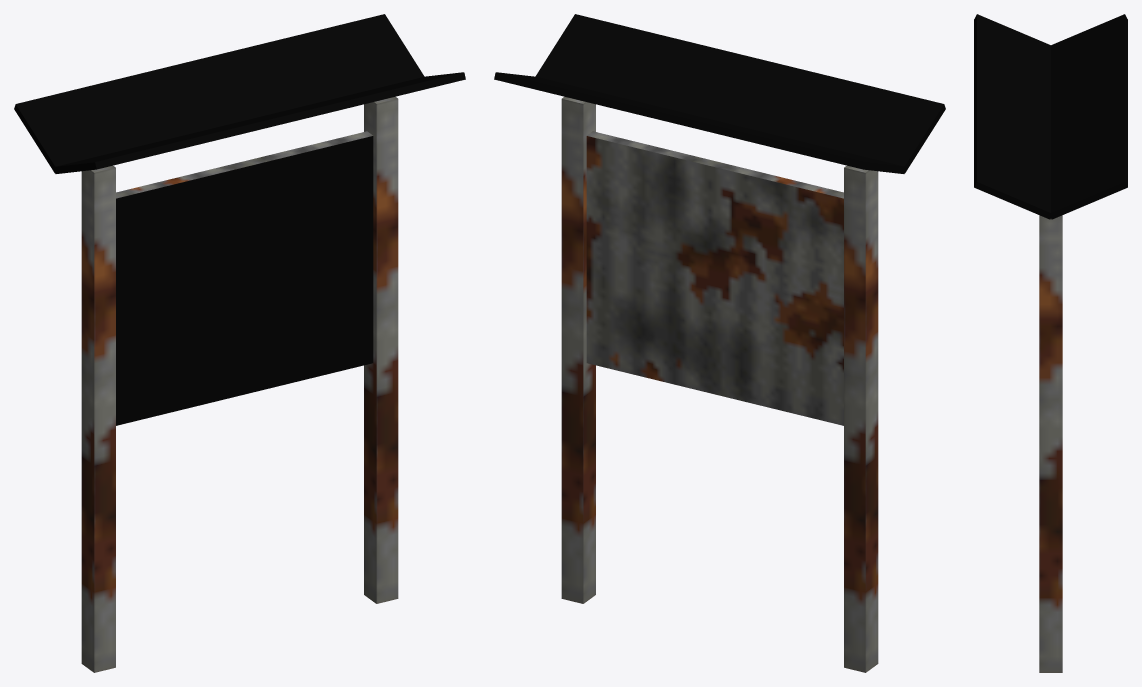
Rendered from SM_trail_map.fbx.
3 views of the same model, side by side, from view 1: azimuth 30°, elevation 25°; view 2: azimuth 150°, elevation 25°; view 3: azimuth 270°, elevation 25° (orthographic). The views are drawn at different scales.
Parts seen in each view (by area): view 1: trail_map; view 2: trail_map; view 3: trail_map.
Boxes of the visible parts, x1,y1,x2,y2 form: trail_map: (14, 14, 465, 672); trail_map: (494, 14, 945, 672); trail_map: (974, 14, 1127, 672).
Bounding box in the file's own units: 1.7 × 2.39 × 0.6589.
